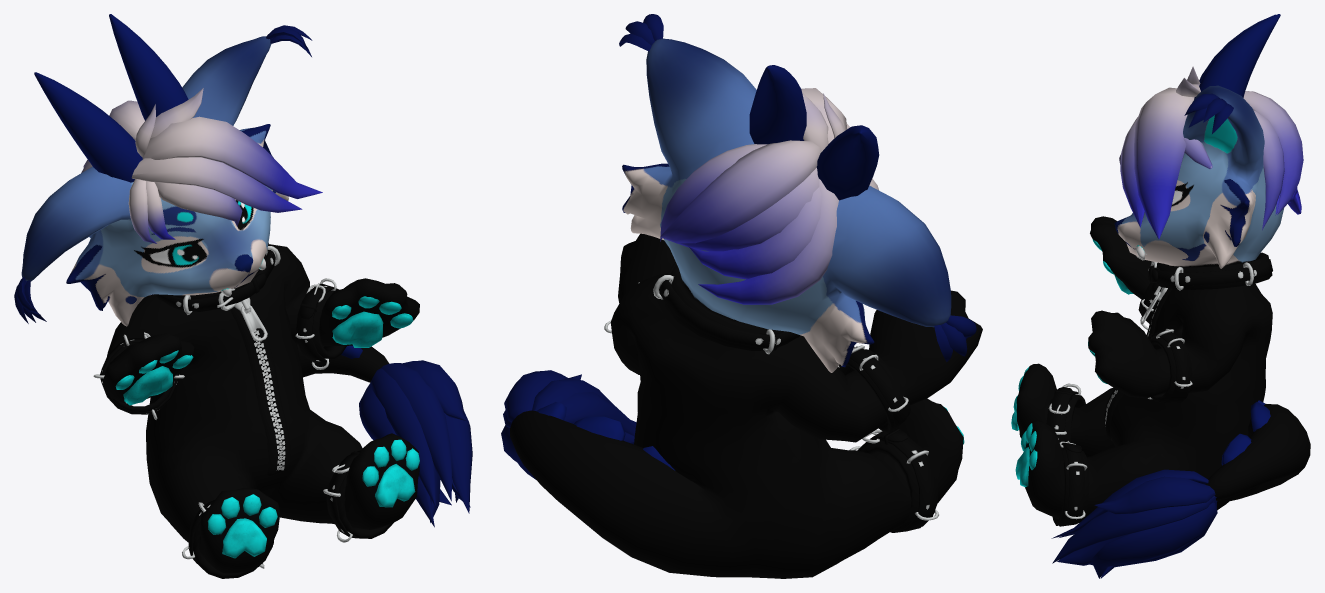
Rendered from FewwiPlush.glb.
3 renders of one model, left to right at view 1: azimuth 30°, elevation 25°; view 2: azimuth 150°, elevation 25°; view 3: azimuth 270°, elevation 25°, orthographic. The views are drawn at different scales.
Visible parts, largest first — view 1: Retopo_BodyHighpoly; view 2: Retopo_BodyHighpoly; view 3: Retopo_BodyHighpoly.
Boxes of the visible parts, left/top/right/bottom form: Retopo_BodyHighpoly: left=14, top=14, right=472, bottom=578; Retopo_BodyHighpoly: left=501, top=14, right=982, bottom=578; Retopo_BodyHighpoly: left=1011, top=14, right=1310, bottom=578.
Bounding box in the file's own units: 1.18 × 1.32 × 0.785.
1 material, 1 textured.
